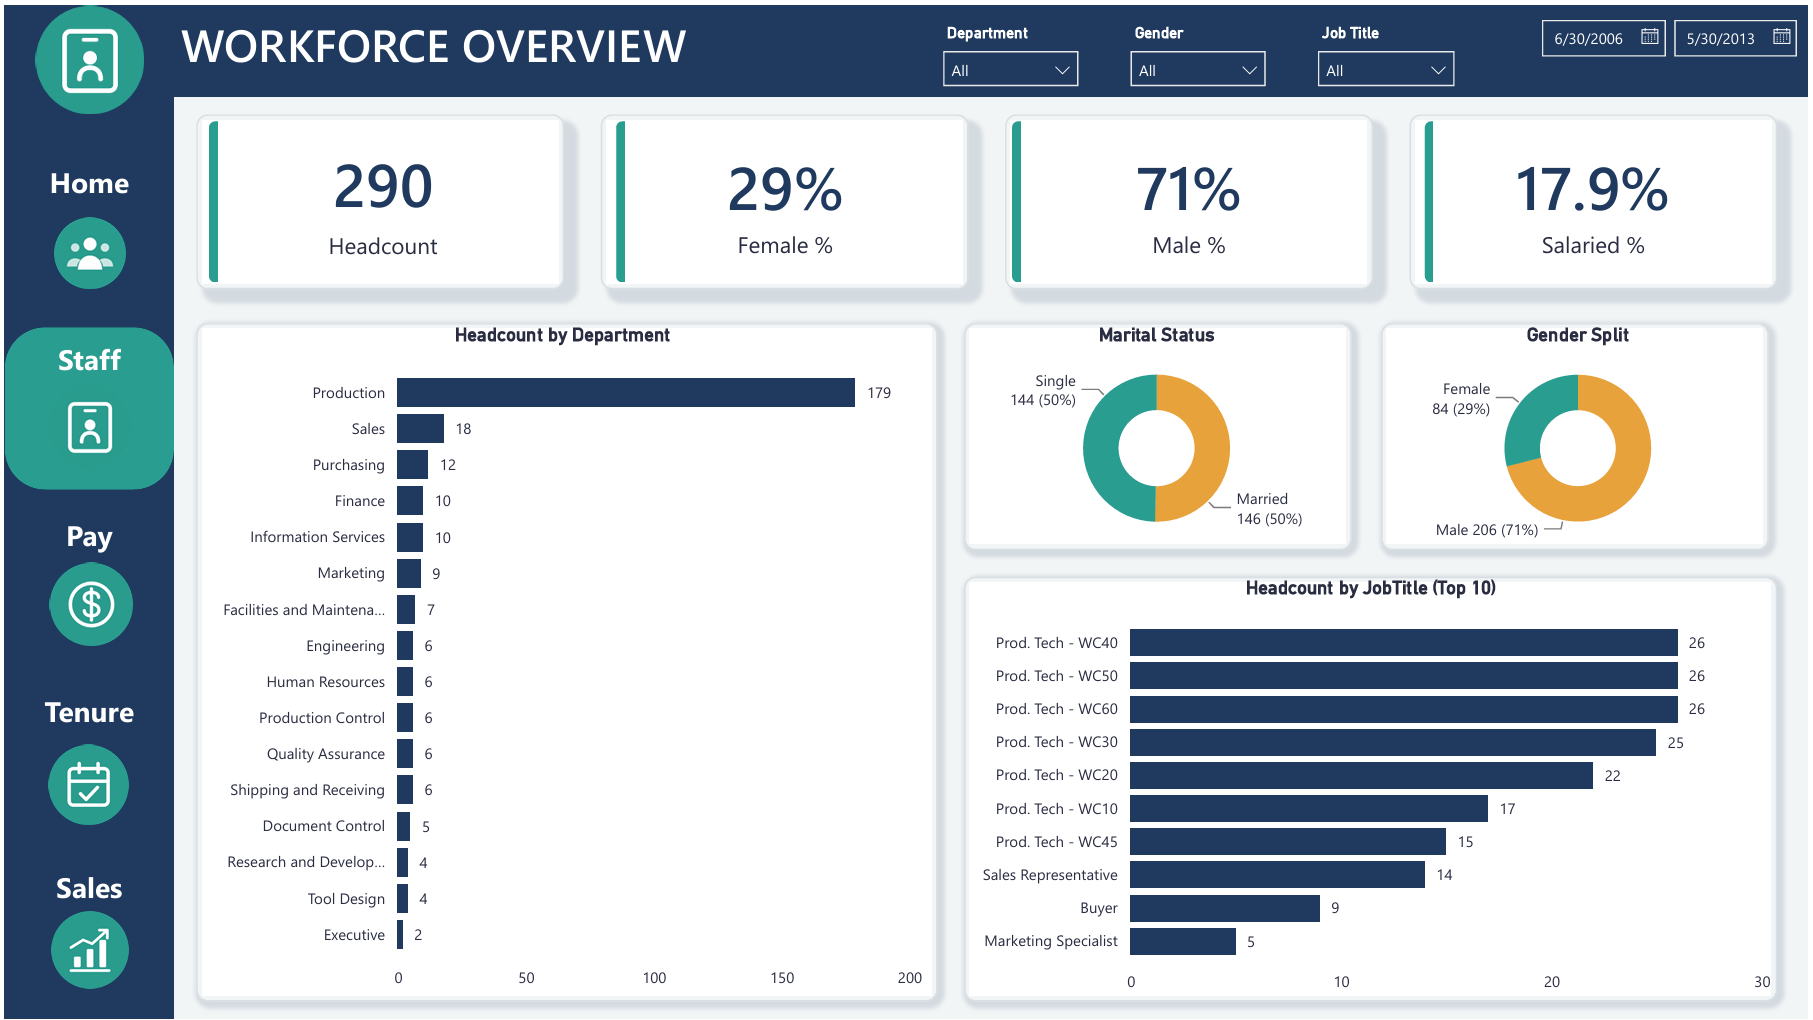

What the dashboard file says about the page in this screenshot:
{"tool":"powerbi","page":{"name":"Staff ","canvas":[1280,720],"ordinal":1},"visuals":[{"type":"shape","box":[0,0,1279.5,719.2],"z":0},{"type":"shape","box":[0,0,1279.5,719.2],"z":1000},{"type":"shape","box":[0,0,1279.5,719.2],"z":2000},{"type":"shape","box":[0,0,119.6,719.2],"z":3000},{"type":"shape","box":[135.6,77.3,261,123.9],"z":4000},{"type":"shape","box":[135.6,224.5,526.3,481.1],"z":5000},{"type":"cardVisual","fields":{"Data":["HR Master.Headcount"]},"box":[140,77.3,256.6,123.9],"z":6000},{"type":"clusteredBarChart","title":"Headcount by Department","fields":{"Category":["HR Master.Department Name"],"Y":["CountNonNull(HR Master.BusinessEntityID)"]},"box":[135.6,226,520.5,479.6],"z":7000},{"type":"shape","box":[680.8,405.3,577.3,300.3],"z":8000},{"type":"clusteredBarChart","title":"Headcount by JobTitle (Top 10)","fields":{"Category":["HR Master.Job Title Short"],"Y":["CountNonNull(HR Master.BusinessEntityID)"]},"box":[680.8,405.3,577.3,303.2],"z":9000},{"type":"shape","box":[680.8,224.5,275.5,161.8],"z":10000},{"type":"donutChart","title":"Marital Status","fields":{"Category":["HR Master.MaritalStatus"],"Y":["CountNonNull(HR Master.BusinessEntityID)"]},"box":[679.4,226,277,160.4],"z":11000},{"type":"shape","box":[0,0,1279.5,65.1],"z":12000},{"type":"textbox","box":[119.6,0,501.2,65.1],"z":13000},{"type":"slicer","fields":{"Values":["HR Master.HireDate"]},"box":[1078.1,0,201.4,43.9],"z":14000},{"type":"shape","box":[422.8,77.3,261,123.9],"z":15000},{"type":"shape","box":[710,77.3,261,123.9],"z":16000},{"type":"shape","box":[997.2,77.3,261,123.9],"z":17000},{"type":"cardVisual","fields":{"Data":["DATE.Salaried %"]},"box":[1003,77.3,249.3,123.9],"z":18000},{"type":"cardVisual","fields":{"Data":["DATE.Male %"]},"box":[710,77.3,261,123.9],"z":19000},{"type":"cardVisual","fields":{"Data":["DATE.Female %"]},"box":[428.6,77.3,250.8,123.9],"z":20000},{"type":"shape","box":[976.8,224.5,275.5,161.8],"z":21000},{"type":"donutChart","title":"Gender Split ","fields":{"Category":["HR Master.Gender"],"Y":["CountNonNull(HR Master.BusinessEntityID)"]},"box":[981.1,226,271.2,160.4],"z":22000},{"type":"slicer","title":"Department ","fields":{"Values":["HR Master.Department Name"]},"box":[655.7,7.6,116.6,57.5],"z":23000},{"type":"slicer","title":"Department ","fields":{"Values":["HR Master.Gender"]},"box":[788.9,7.6,116.6,57.5],"z":24000},{"type":"slicer","title":"Department ","fields":{"Values":["HR Master.JobTitle"]},"box":[922.2,7.6,116.6,57.5],"z":25000},{"type":"pageNavigator","box":[0,103,119.6,616.3],"z":26000},{"type":"image","box":[0,0,119.6,77.2],"z":27000},{"type":"image","box":[0,268,119.6,60.6],"z":28000},{"type":"image","box":[12.1,149.9,96.9,51.5],"z":29000},{"type":"image","box":[10.6,523.9,96.9,57.5],"z":30000},{"type":"image","box":[0,642,119.6,54.5],"z":31000},{"type":"image","box":[12.1,395.2,98.4,59.1],"z":32000}]}

Visuals, with their boxes on the page's 1280x720 design canvas (x1, y1, x2, y2). These are canvas units, not pixel positions in the 1813x1020 screenshot, which may show the page scaled, cropped or inside an application window:
shape: bbox=[0, 0, 1280, 719]
shape: bbox=[0, 0, 1280, 719]
shape: bbox=[0, 0, 1280, 719]
shape: bbox=[0, 0, 120, 719]
shape: bbox=[136, 77, 397, 201]
shape: bbox=[136, 224, 662, 706]
cardVisual - HR Master.Headcount: bbox=[140, 77, 397, 201]
"Headcount by Department" clusteredBarChart: bbox=[136, 226, 656, 706]
shape: bbox=[681, 405, 1258, 706]
"Headcount by JobTitle (Top 10)" clusteredBarChart: bbox=[681, 405, 1258, 708]
shape: bbox=[681, 224, 956, 386]
"Marital Status" donutChart: bbox=[679, 226, 956, 386]
shape: bbox=[0, 0, 1280, 65]
textbox: bbox=[120, 0, 621, 65]
slicer - HR Master.HireDate: bbox=[1078, 0, 1280, 44]
shape: bbox=[423, 77, 684, 201]
shape: bbox=[710, 77, 971, 201]
shape: bbox=[997, 77, 1258, 201]
cardVisual - DATE.Salaried %: bbox=[1003, 77, 1252, 201]
cardVisual - DATE.Male %: bbox=[710, 77, 971, 201]
cardVisual - DATE.Female %: bbox=[429, 77, 679, 201]
shape: bbox=[977, 224, 1252, 386]
"Gender Split " donutChart: bbox=[981, 226, 1252, 386]
"Department " slicer: bbox=[656, 8, 772, 65]
"Department " slicer: bbox=[789, 8, 906, 65]
"Department " slicer: bbox=[922, 8, 1039, 65]
pageNavigator: bbox=[0, 103, 120, 719]
image: bbox=[0, 0, 120, 77]
image: bbox=[0, 268, 120, 329]
image: bbox=[12, 150, 109, 201]
image: bbox=[11, 524, 108, 581]
image: bbox=[0, 642, 120, 696]
image: bbox=[12, 395, 110, 454]
